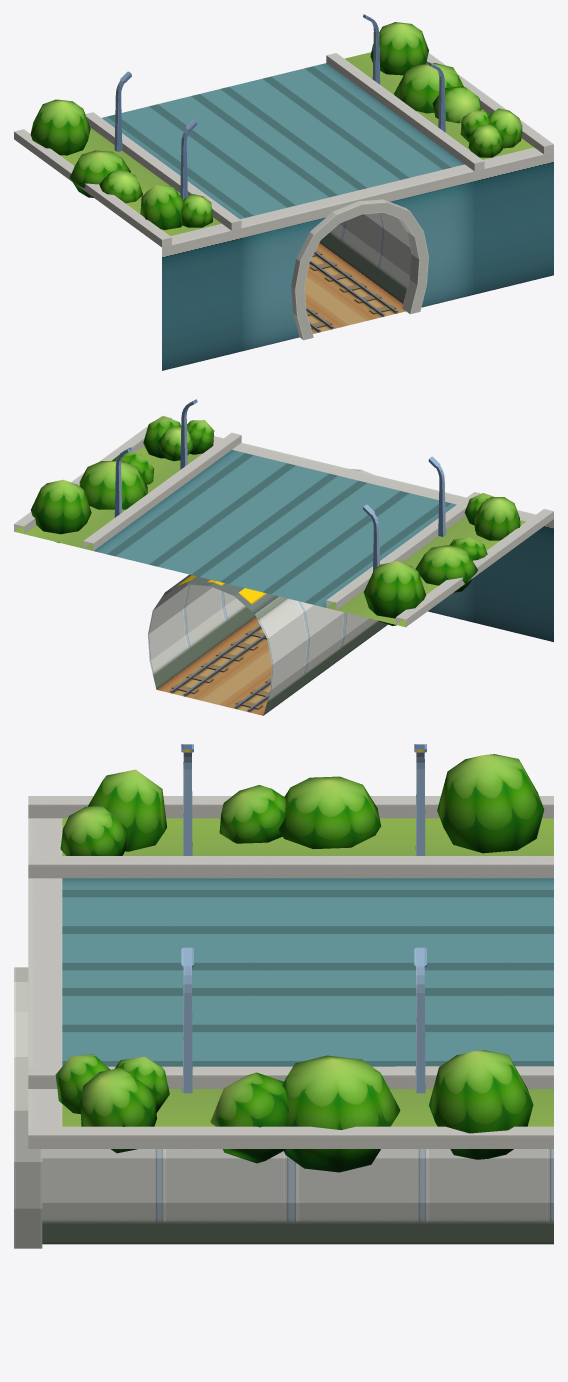
Rendered from Tunnel01_01.FBX.
3 renders of one model, top to bottom at view 1: azimuth 30°, elevation 25°; view 2: azimuth 150°, elevation 25°; view 3: azimuth 270°, elevation 25°, orthographic. The views are drawn at different scales.
Visible parts, largest first — view 1: Tunnel, Rail; view 2: Tunnel, Rail (×2); view 3: Tunnel.
Part boxes in pixels (x1,y1,x2,y2): Tunnel: (14, 14, 553, 370); Rail: (304, 256, 405, 333); Tunnel: (14, 399, 553, 715); Rail (×2): (156, 617, 271, 715); Tunnel: (14, 744, 553, 1248).
Bounding box in the file's own units: 2465 × 1183 × 1643.
